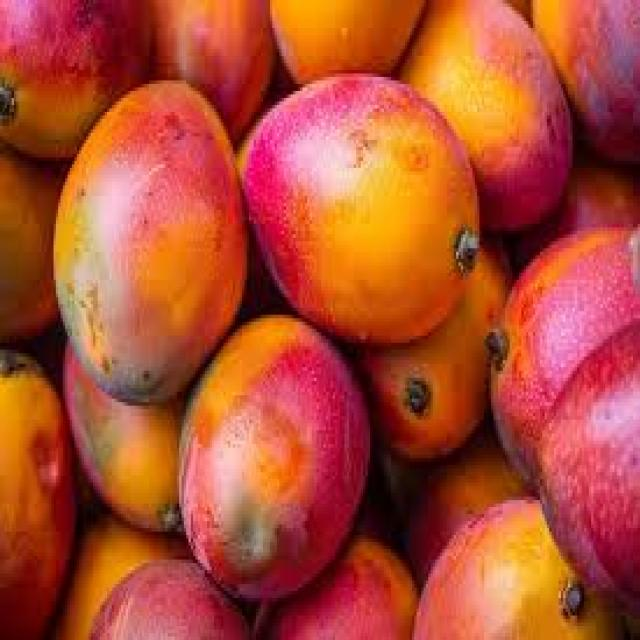Mango: (256, 78, 483, 335), (62, 84, 247, 396), (502, 251, 640, 594), (207, 299, 363, 598), (422, 14, 572, 230), (0, 0, 160, 137)
